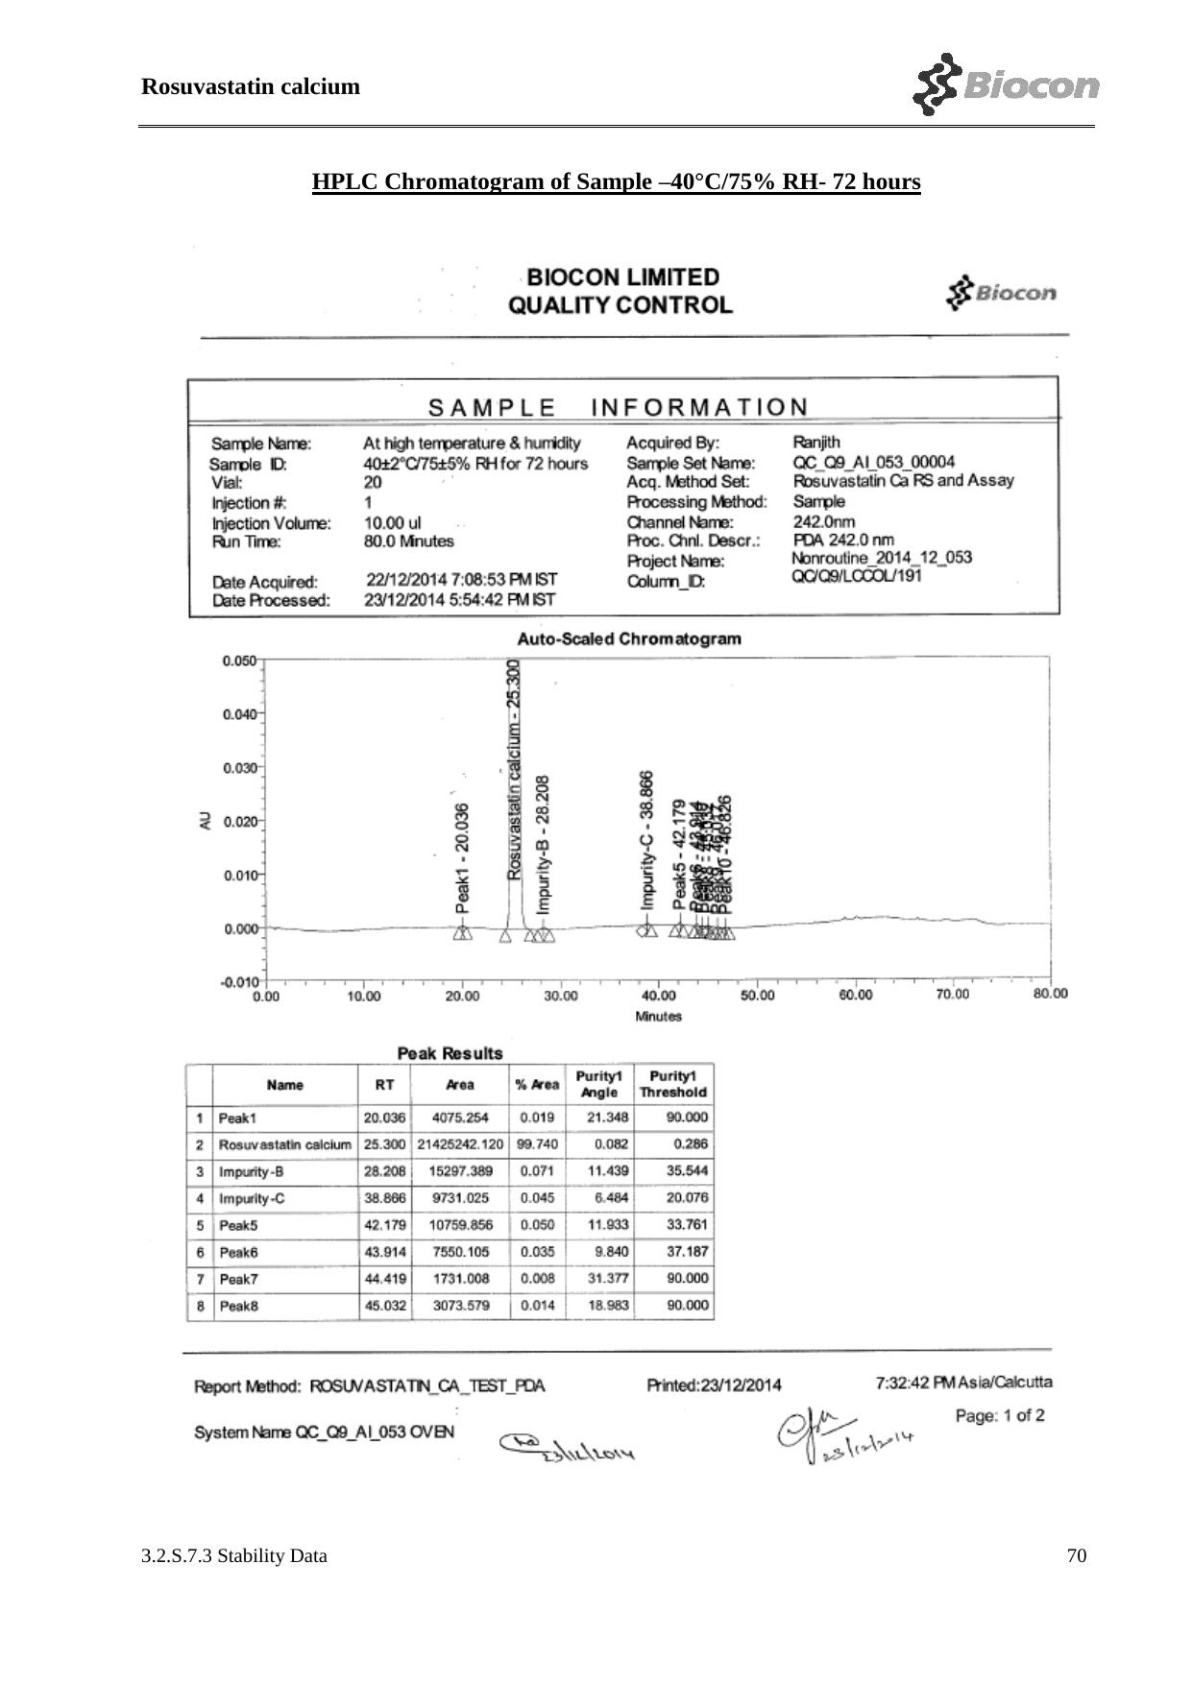full_lined: (184, 1062, 716, 1323)
partial_lined_merged_cells: (184, 374, 1060, 619)
